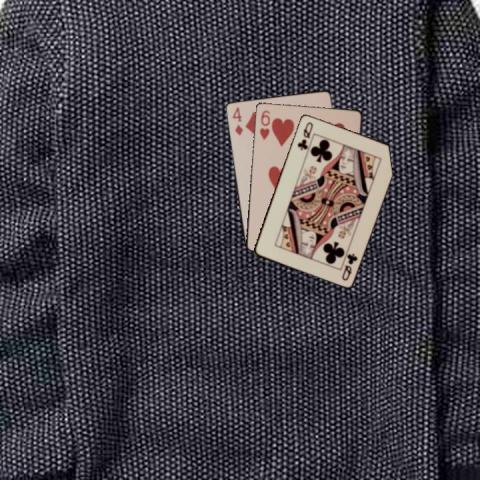4d: (229, 104, 244, 137)
6h: (257, 108, 271, 142)
Qc: (338, 250, 359, 282), (294, 119, 314, 151)
